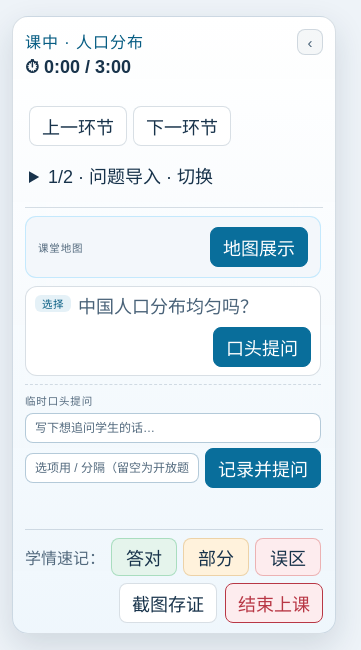
Scenario: ClassRunPanel › presents choice questions orally without exposing teacher answers
This screenshot has width=361, height=650.
Click the button with test id "oral-toggle-s1q1" at {"x": 262, "y": 347}, box [213, 327, 311, 367]
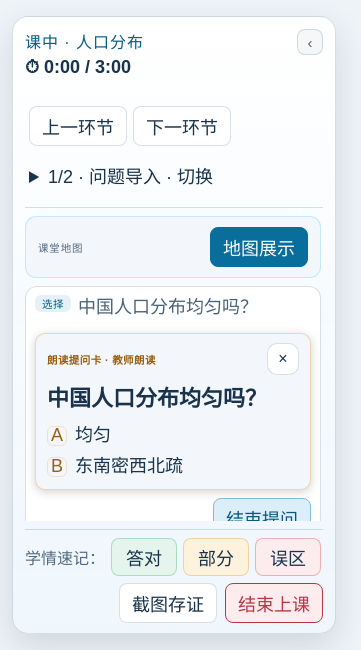
Check: the element with test id "oral-prompt-s1q1" shows "A", box [51, 425, 63, 445]
Check: the element with test id "oral-prompt-s1q1" shows "B", box [51, 456, 63, 476]
